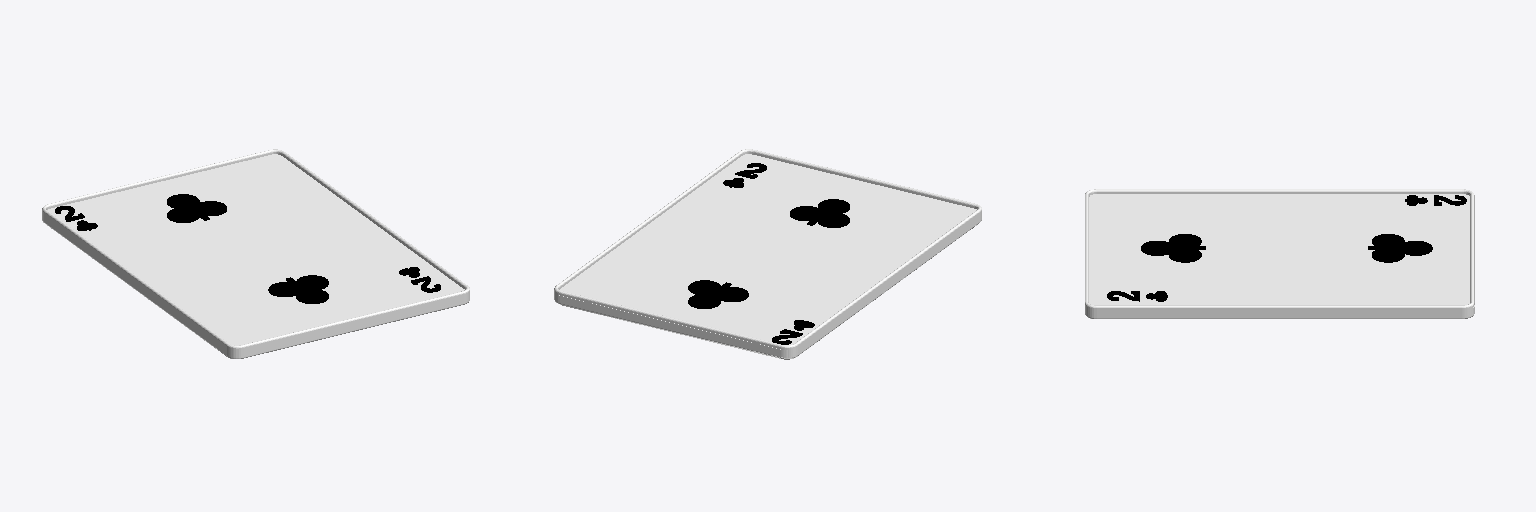
Rendered from clubs_2.obj.
3 views of the same model, side by side, from view 1: azimuth 30°, elevation 25°; view 2: azimuth 150°, elevation 25°; view 3: azimuth 270°, elevation 25° (orthographic).
Parts seen in each view (by area): view 1: rect4266.001, rect4266.055, path3979-1-6-1-7-1-5, path3979-1-6-1.001; view 2: rect4266.001, rect4266.055, path3979-1-6-1.001, path3979-1-6-1-7-1-5; view 3: rect4266.001, rect4266.055, path3979-1-6-1-7-1-5, path3979-1-6-1.001.
Boxes of the visible parts, <box> form: rect4266.001: <box>48,154,464,345</box>; rect4266.055: <box>42,149,469,358</box>; path3979-1-6-1-7-1-5: <box>268,275,328,303</box>; path3979-1-6-1.001: <box>167,194,226,222</box>; rect4266.001: <box>556,154,976,357</box>; rect4266.055: <box>554,149,981,357</box>; path3979-1-6-1.001: <box>688,280,748,308</box>; path3979-1-6-1-7-1-5: <box>790,199,849,227</box>; rect4266.001: <box>1089,194,1474,314</box>; rect4266.055: <box>1085,189,1474,318</box>; path3979-1-6-1-7-1-5: <box>1141,234,1201,262</box>; path3979-1-6-1.001: <box>1372,234,1432,262</box>.
Size of the model in its own units: 2.92 by 0.1953 by 4.09.